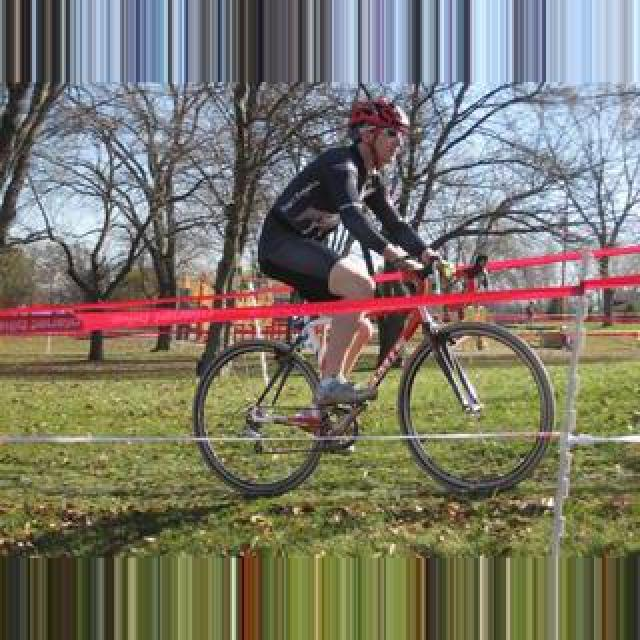MC-Bike: (258, 98, 440, 432)
Person: (189, 260, 575, 500)
